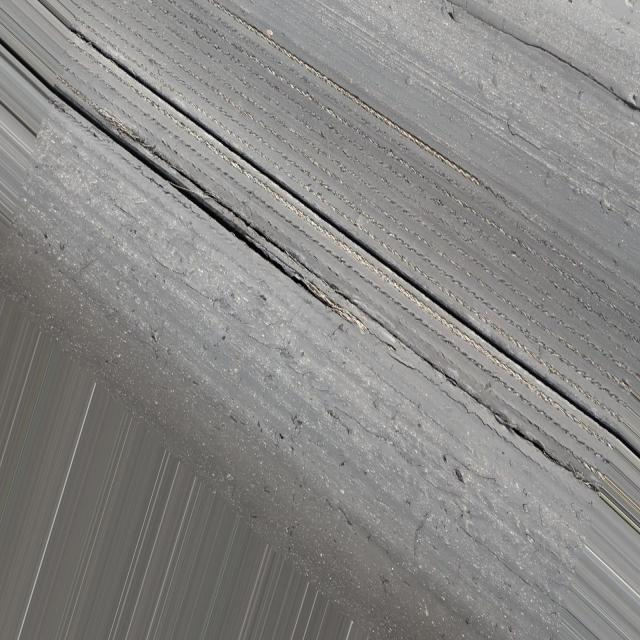Tear: (55, 87, 591, 490), (109, 50, 611, 440), (539, 35, 639, 113)
impact damage: (122, 12, 636, 402)
